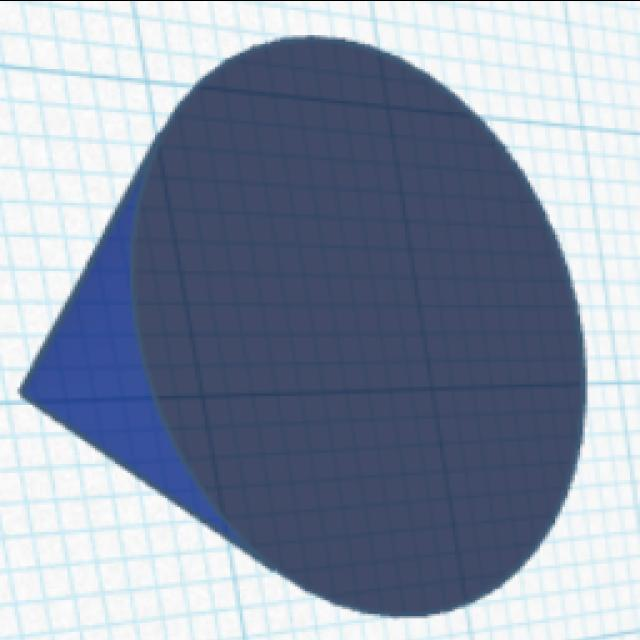cone: (12, 31, 592, 622)
